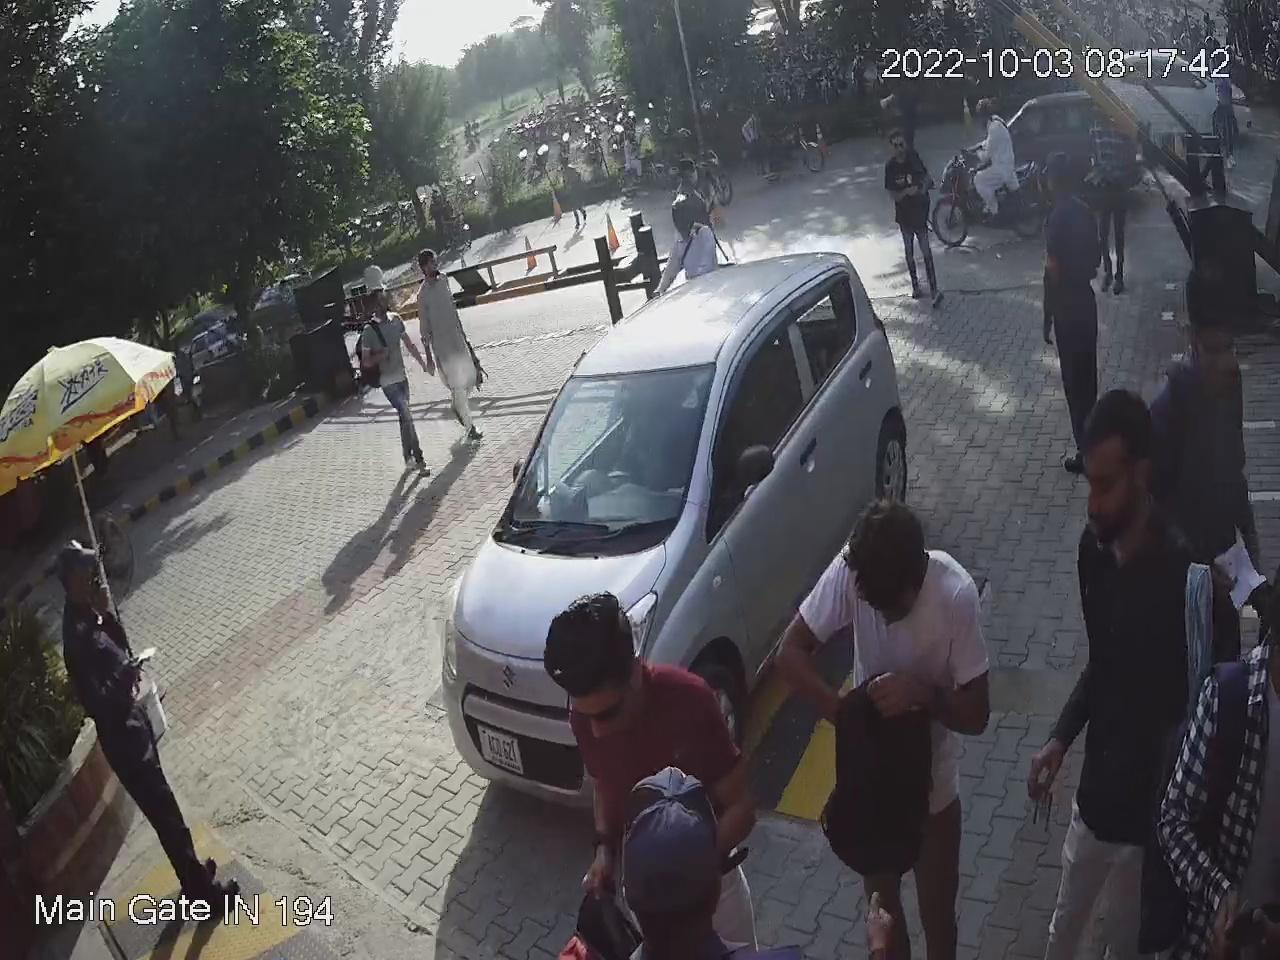windshield: (496, 355, 733, 548)
